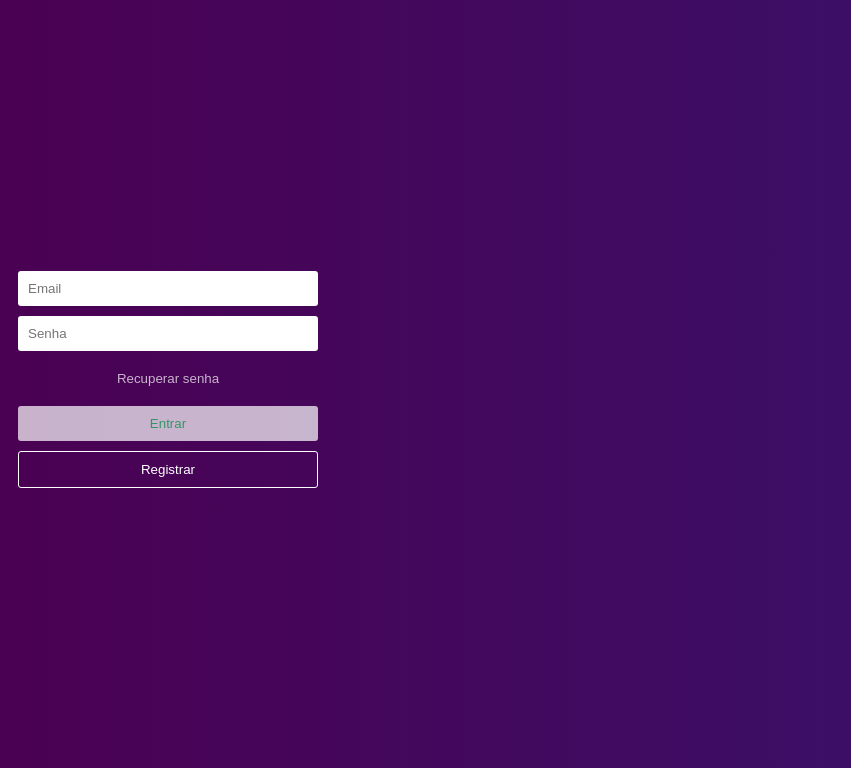
Test case: Login › given email › when invalid, then show invalid error message
This screenshot has width=851, height=768.
Type "anyValue" into the field with test id "email".
click(168, 288); type("anyValue")  # box [18,270,318,306]
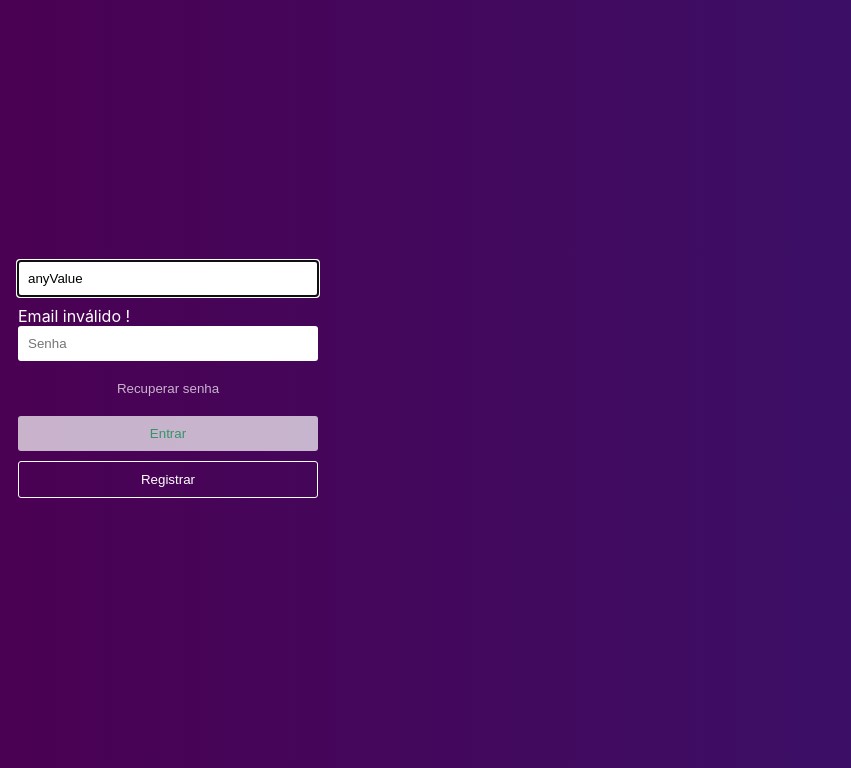
Expected: the text "Email inválido !" is shown, [18,306,130,326]
